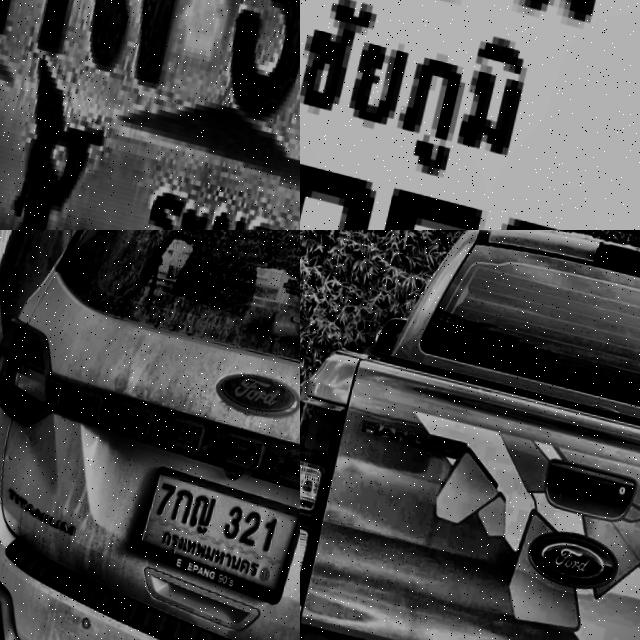license-plate: (300, 0, 640, 230), (0, 0, 300, 230), (134, 449, 300, 596)
